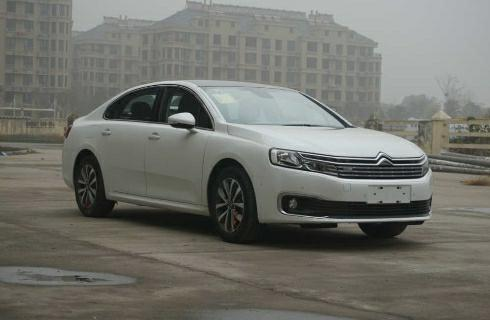car: (52, 72, 442, 255)
